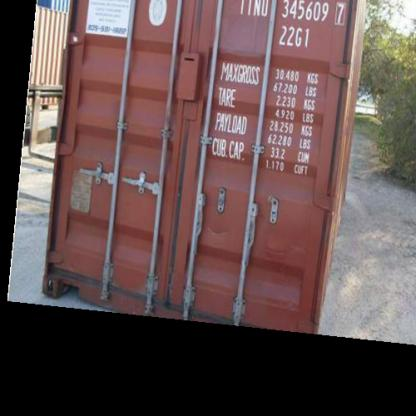Damage: (221, 10, 269, 62), (262, 236, 317, 270), (202, 217, 234, 244)
